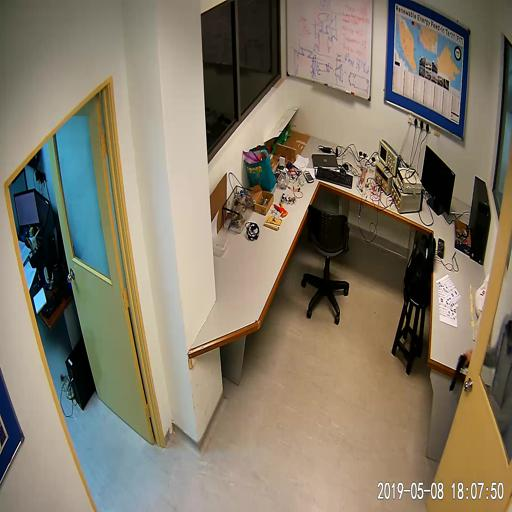pistol: (448, 352, 470, 393)
